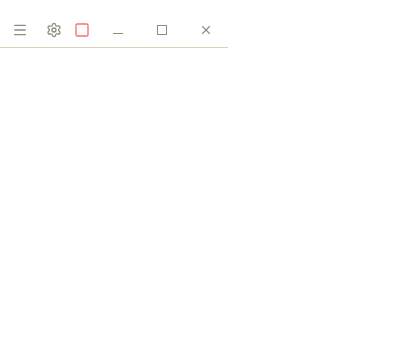
Test: TitleBar — Hamburger menu › tb-10: hovering Edit section reveals edit actions
Click the button named "open menu" at (20, 30), box x1=6 y1=16 x2=34 y2=44
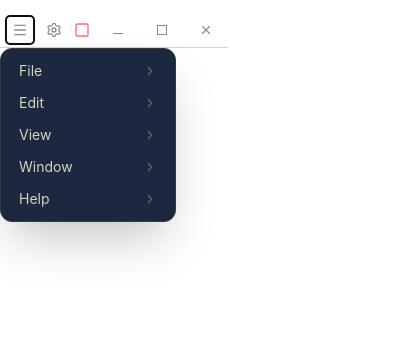
Hover over the button "Edit" at (88, 102), box x1=7 y1=86 x2=169 y2=118
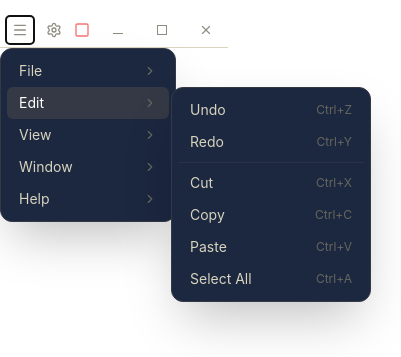
Now the text "Undo" is shown, box x1=190 y1=100 x2=226 y2=120
Now the text "Copy" is shown, box x1=190 y1=204 x2=225 y2=224
Now the text "Paste" is shown, box x1=190 y1=236 x2=227 y2=256
